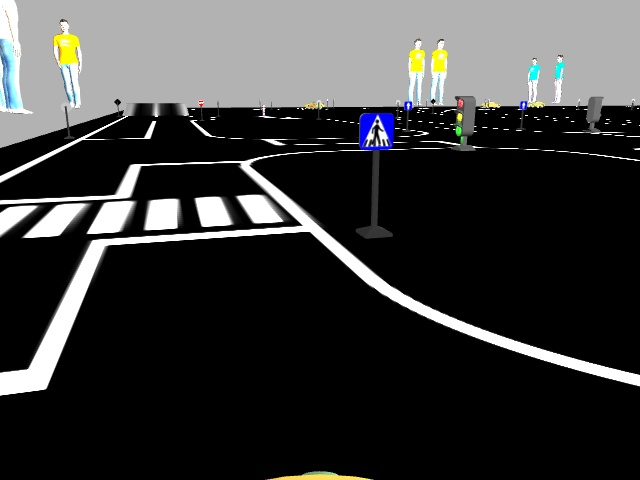Crosswalk: (356, 113, 394, 150)
TrafficLight: (450, 93, 476, 136)
